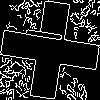I: (25, 25, 73, 46)
